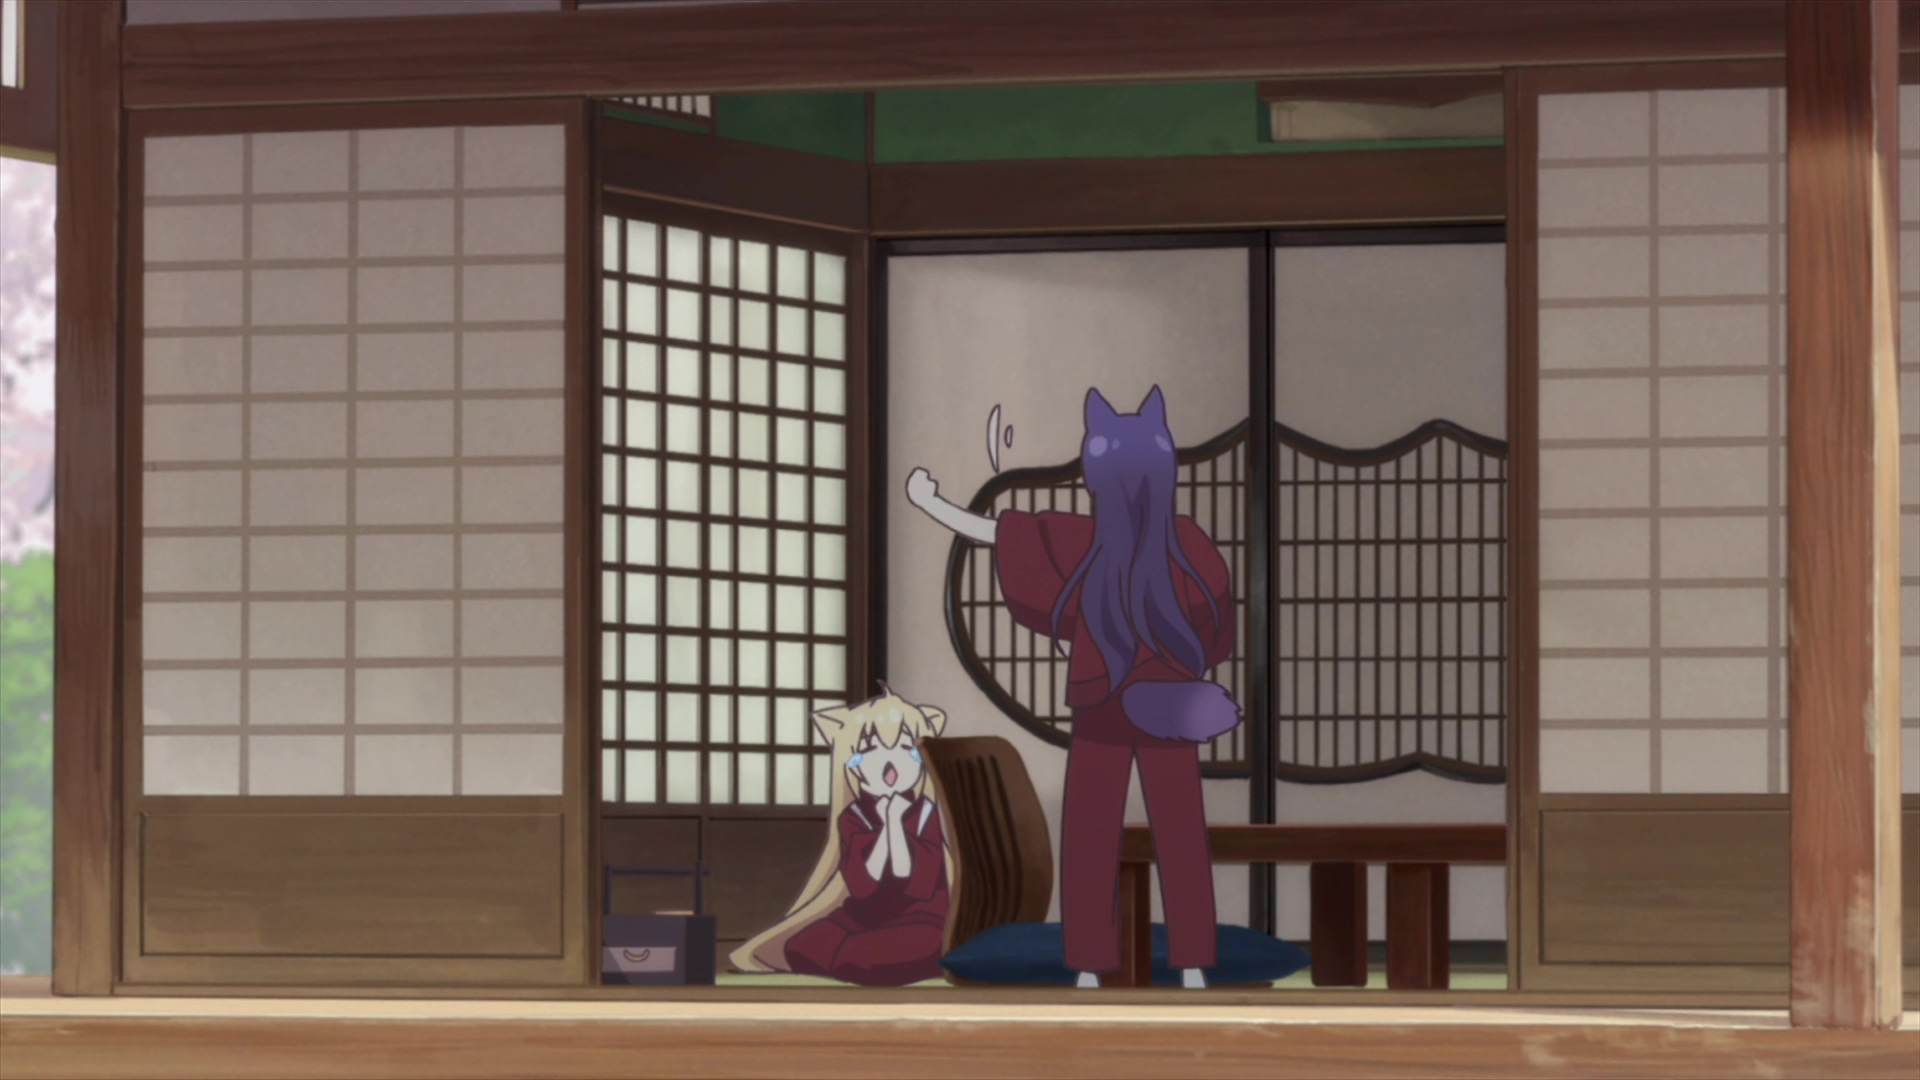柚: (731, 679, 955, 986)
皋: (907, 385, 1241, 990)
